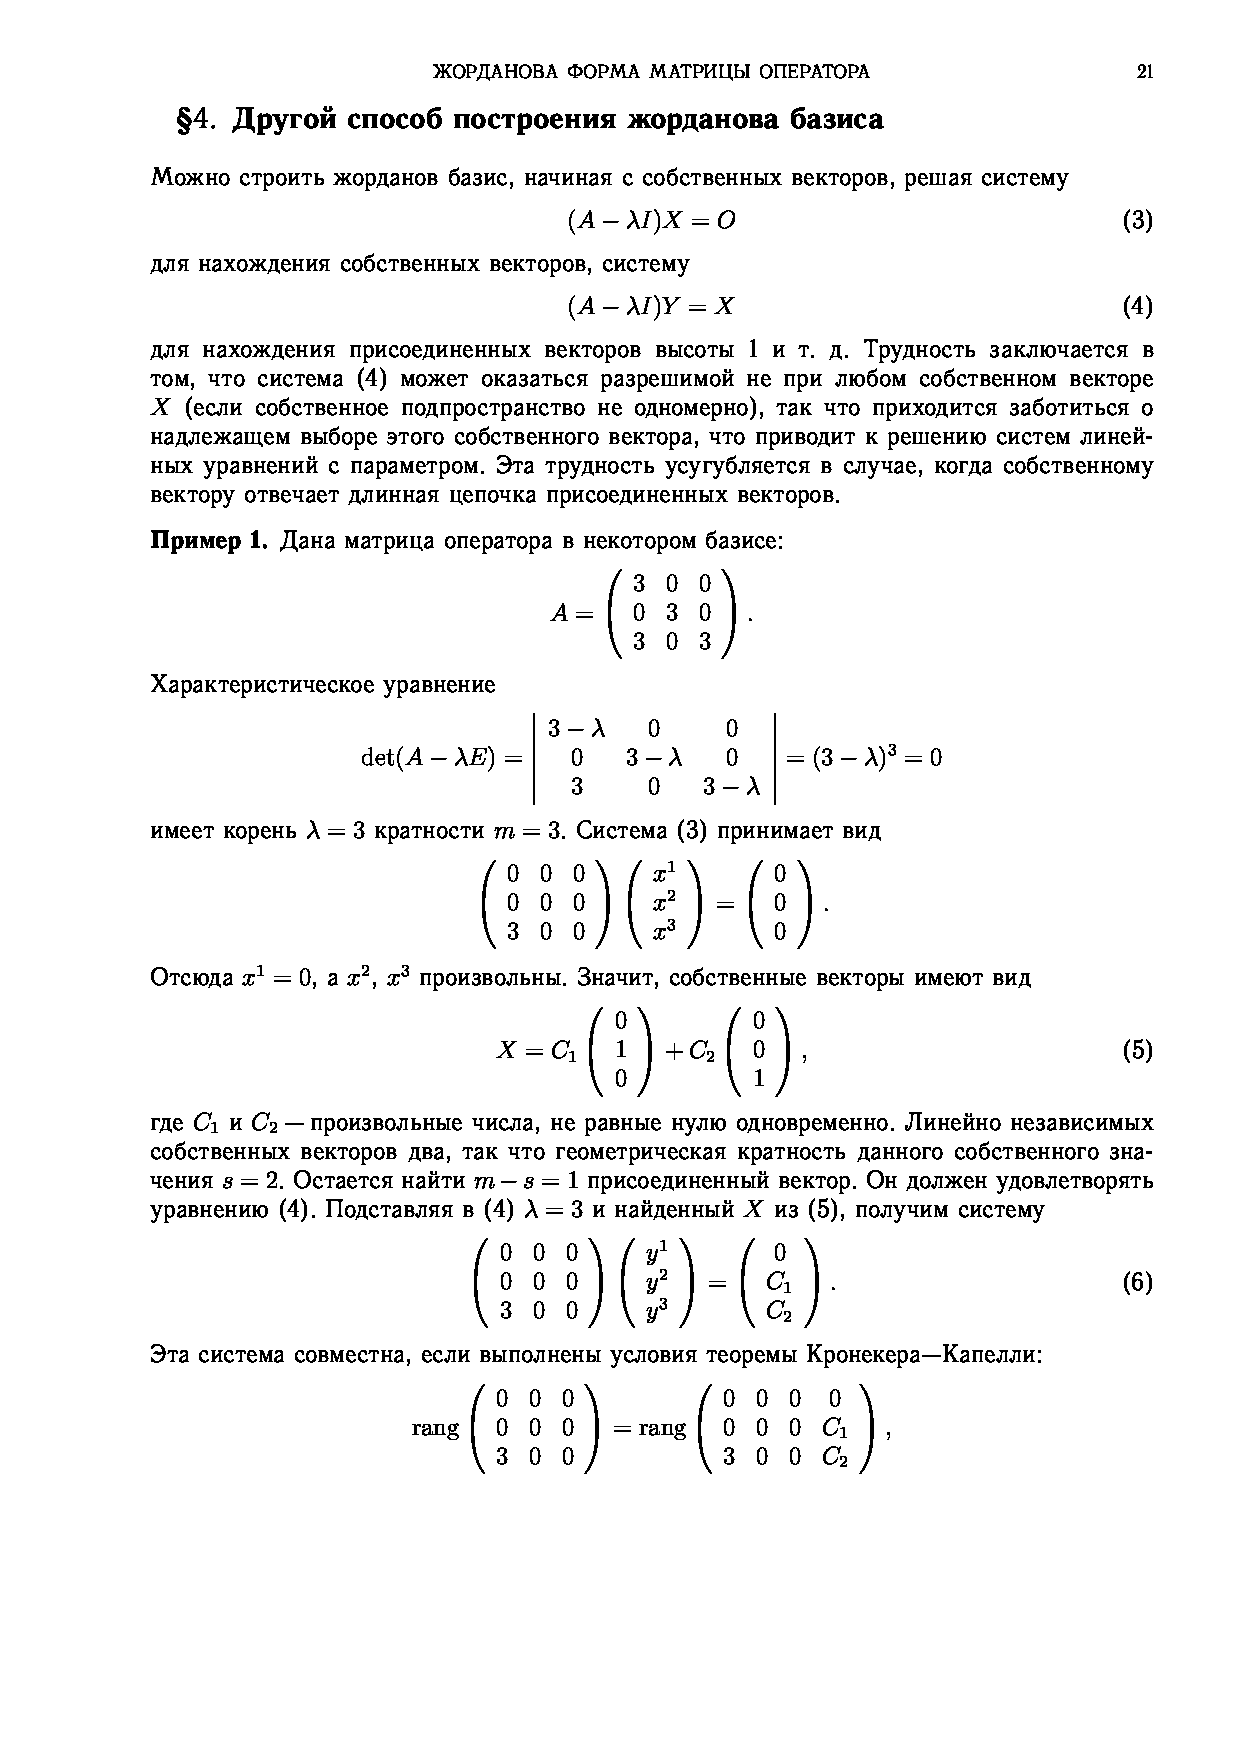lMatrix: (530, 707, 782, 811)
pMatrix: (695, 1384, 878, 1480), (471, 1235, 607, 1337), (479, 856, 611, 958), (608, 568, 737, 667), (471, 1384, 600, 1480), (739, 1235, 823, 1333), (617, 1235, 696, 1337), (628, 860, 706, 958), (723, 1007, 794, 1107), (747, 860, 817, 956), (590, 1009, 654, 1107)
